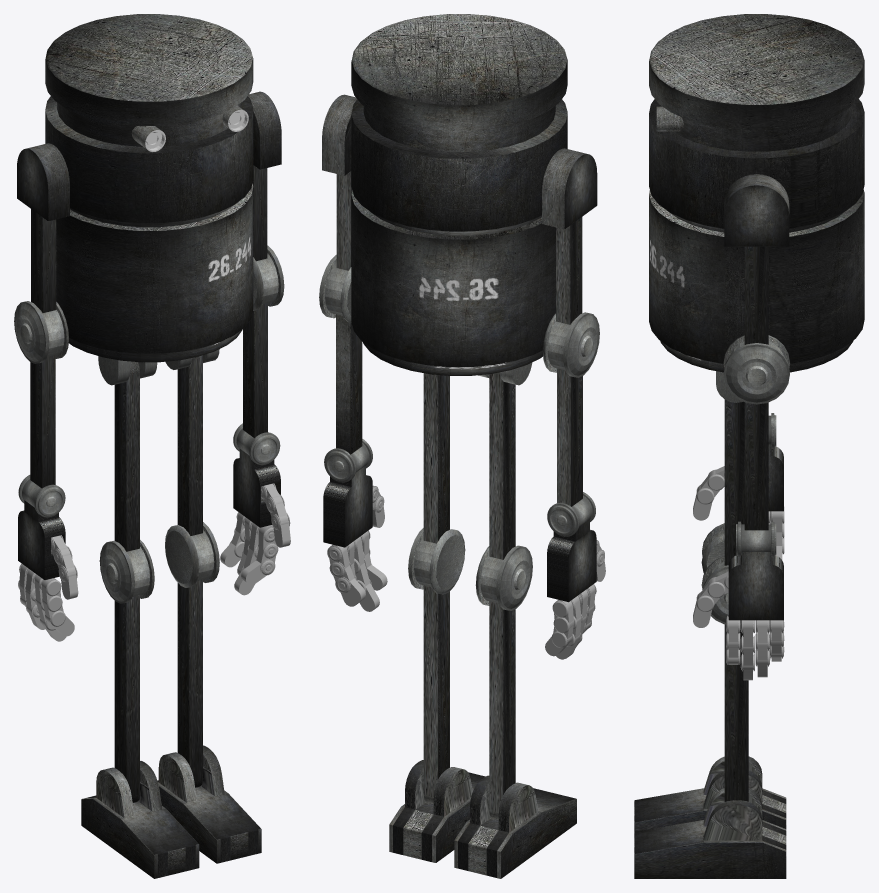
Rendered from can_bot.fbx.
3 views of the same model, side by side, from view 1: azimuth 30°, elevation 25°; view 2: azimuth 150°, elevation 25°; view 3: azimuth 270°, elevation 25° (orthographic). The views are drawn at different scales.
Parts seen in each view (by area): view 1: polySurface348, Stomach, R_feet, L_knee1, R_leg1, L_feet, R_forearm1, R_arm1, L_forearm1, R_thigh, L_thigh, R_hand (+4 smaller); view 2: polySurface348, Stomach, L_knee1, R_leg1, R_feet, R_arm1, R_forearm1, L_feet, L_forearm1, R_thigh, R_hand, L_thigh (+2 smaller); view 3: polySurface348, Stomach, L_feet, L_forearm1, L_arm1, L_hand, L_knee1, R_feet, L_thigh, R_hand, polySurface299 (×2), R_leg1.
Boxes of the visible parts, box(x1,y1,x2,y2) form: polySurface348: box(45, 14, 253, 227); Stomach: box(56, 183, 253, 362); R_feet: box(81, 761, 199, 878); L_knee1: box(165, 522, 219, 787); R_leg1: box(99, 540, 154, 802); L_feet: box(157, 745, 261, 863); R_forearm1: box(14, 301, 68, 488); R_arm1: box(17, 143, 69, 312); L_forearm1: box(243, 245, 284, 437); R_thigh: box(114, 361, 139, 551); L_thigh: box(177, 355, 202, 535); R_hand: box(18, 475, 65, 579); polySurface348: box(351, 14, 567, 235); Stomach: box(351, 190, 555, 375); L_knee1: box(408, 528, 465, 803); R_leg1: box(475, 545, 532, 819); R_feet: box(454, 775, 576, 878); R_arm1: box(542, 148, 597, 324); R_forearm1: box(542, 312, 599, 506); L_feet: box(389, 760, 485, 862); L_forearm1: box(319, 254, 362, 454); R_thigh: box(489, 372, 515, 559); R_hand: box(547, 492, 596, 602); L_thigh: box(423, 373, 449, 543); polySurface348: box(649, 14, 864, 232); Stomach: box(649, 190, 864, 372); L_feet: box(634, 788, 786, 878); L_forearm1: box(723, 335, 790, 530); L_arm1: box(724, 174, 789, 344); L_hand: box(728, 521, 783, 620); L_knee1: box(701, 556, 748, 801); R_feet: box(634, 756, 786, 831); L_thigh: box(724, 399, 744, 565); R_hand: box(768, 413, 783, 511); polySurface299 (×2): box(693, 485, 714, 627); R_leg1: box(701, 523, 724, 573).
Bounding box in the file's own units: 4.39 × 12.95 × 3.41.
